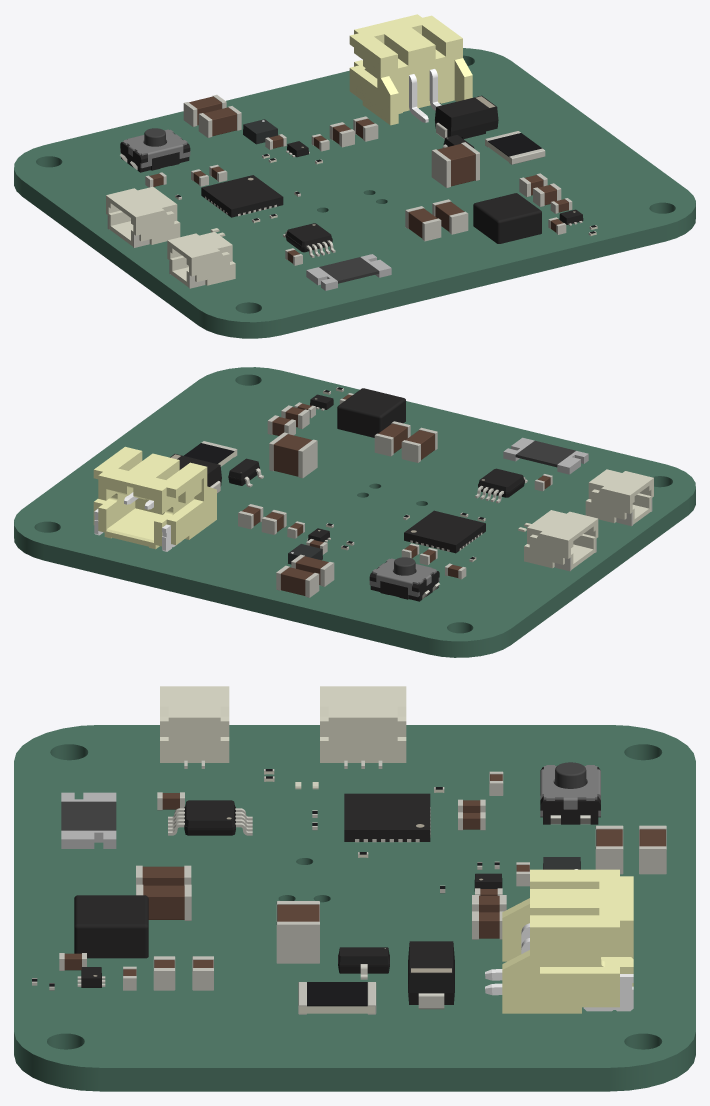
File: hardware.glb
3 views of the same model, one above another, from view 1: azimuth 30°, elevation 25°; view 2: azimuth 150°, elevation 25°; view 3: azimuth 270°, elevation 25° (orthographic). The views are drawn at different scales.
Visible parts, largest first — view 1: =>[0:1:1:40], =>[0:1:1:25], =>[0:1:1:21] (×4), =>[0:1:1:33], =>[0:1:1:13], =>[0:1:1:5], =>[0:1:1:9], =>[0:1:1:31], =>[0:1:1:15], =>[0:1:1:11], =>[0:1:1:19], =>[0:1:1:23] (+3 smaller); view 2: =>[0:1:1:40], =>[0:1:1:25], =>[0:1:1:21] (×4), =>[0:1:1:33], =>[0:1:1:13], =>[0:1:1:5], =>[0:1:1:9], =>[0:1:1:31], =>[0:1:1:11], =>[0:1:1:19], =>[0:1:1:7] (×3), =>[0:1:1:39] (+3 smaller); view 3: =>[0:1:1:40], =>[0:1:1:25], =>[0:1:1:33], =>[0:1:1:21] (×4), =>[0:1:1:13], =>[0:1:1:5], =>[0:1:1:31], =>[0:1:1:9], =>[0:1:1:15], =>[0:1:1:19], =>[0:1:1:11], =>[0:1:1:23] (+3 smaller).
Part boxes in pixels (x1,y1,x2,y2): =>[0:1:1:40]: (14,48,695,338); =>[0:1:1:25]: (349,14,472,125); =>[0:1:1:21] (×4): (183,95,468,241); =>[0:1:1:33]: (106,186,180,247); =>[0:1:1:13]: (167,232,235,288); =>[0:1:1:5]: (473,193,541,243); =>[0:1:1:9]: (120,128,190,172); =>[0:1:1:31]: (201,175,283,217); =>[0:1:1:15]: (435,95,498,139); =>[0:1:1:11]: (431,142,479,187); =>[0:1:1:19]: (306,254,391,290); =>[0:1:1:23]: (485,131,545,164); =>[0:1:1:40]: (14,367,695,657); =>[0:1:1:25]: (93,446,216,551); =>[0:1:1:21] (×4): (276,421,437,597); =>[0:1:1:33]: (524,510,598,571); =>[0:1:1:13]: (585,469,653,526); =>[0:1:1:5]: (337,388,405,437); =>[0:1:1:9]: (369,557,439,601); =>[0:1:1:31]: (404,510,485,553); =>[0:1:1:11]: (269,432,317,478); =>[0:1:1:19]: (503,437,588,474); =>[0:1:1:7] (×3): (238,415,295,534); =>[0:1:1:39]: (475,468,527,503); =>[0:1:1:40]: (14,725,695,1091); =>[0:1:1:25]: (485,869,633,1013); =>[0:1:1:33]: (320,686,406,768); =>[0:1:1:21] (×4): (136,825,666,920); =>[0:1:1:13]: (160,686,229,768); =>[0:1:1:5]: (74,895,148,958); =>[0:1:1:31]: (344,793,430,842); =>[0:1:1:9]: (540,762,600,824); =>[0:1:1:15]: (408,941,454,1009); =>[0:1:1:19]: (61,792,116,848); =>[0:1:1:11]: (276,901,319,963); =>[0:1:1:23]: (298,982,376,1014).
Size of the model in its own units: 0.047 by 0.00709 by 0.0395.
